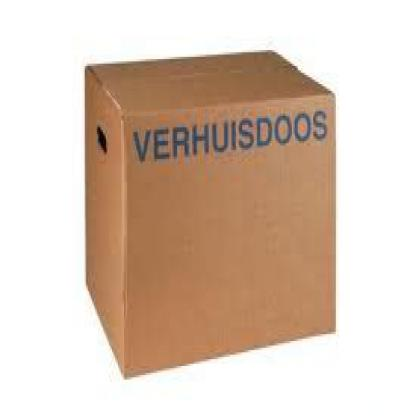box: (82, 48, 337, 377)
